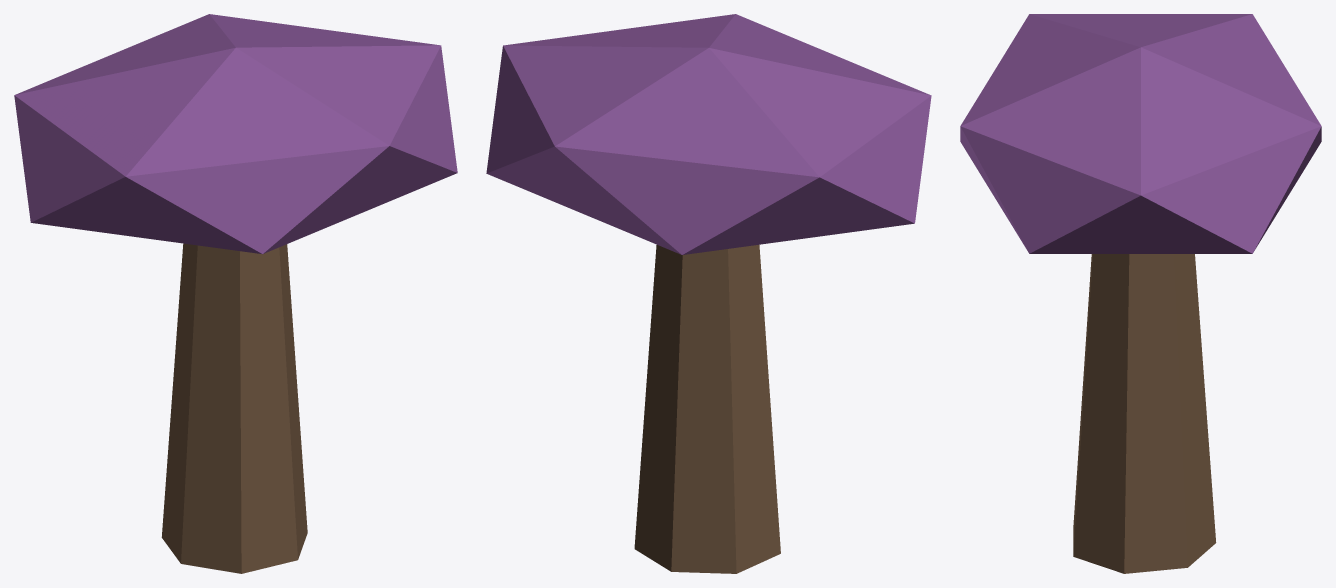
The model's file is df_mushroom_blocker_b.glb.
3 renders of one model, left to right at view 1: azimuth 30°, elevation 25°; view 2: azimuth 150°, elevation 25°; view 3: azimuth 270°, elevation 25°, orthographic.
Visible parts, largest first — view 1: cap, stalk; view 2: cap, stalk; view 3: cap, stalk.
Part boxes in pixels (left/top/right/bottom): cap: left=14, top=14, right=457, bottom=254; stalk: left=161, top=243, right=307, bottom=573; cap: left=486, top=14, right=931, bottom=254; stalk: left=634, top=245, right=780, bottom=573; cap: left=960, top=14, right=1321, bottom=253; stalk: left=1073, top=254, right=1216, bottom=573.
Bounding box in the file's own units: 1.07 × 1.24 × 0.8166.
